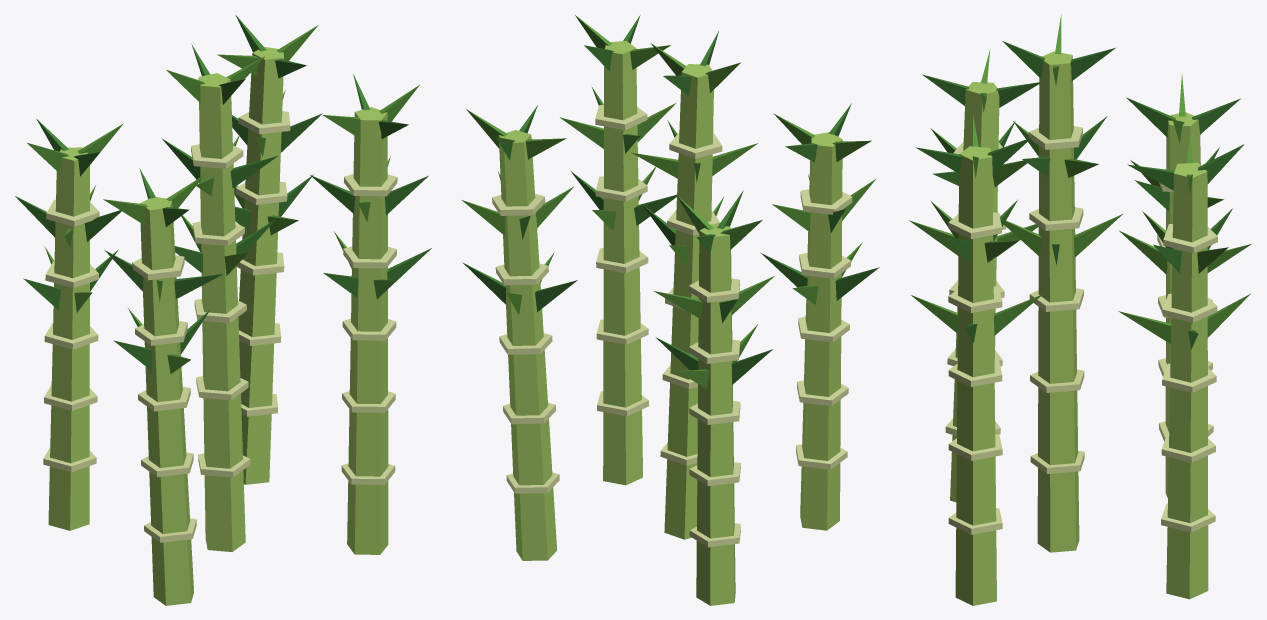
File: bamboo-4.glb
The picture shows the model from 3 angles, left to right: view 1: azimuth 30°, elevation 25°; view 2: azimuth 150°, elevation 25°; view 3: azimuth 270°, elevation 25°; orthographic projection. The views are drawn at different scales.
Visible parts, largest first — view 1: bamboo-4; view 2: bamboo-4; view 3: bamboo-4.
Boxes of the visible parts, x1=… form: bamboo-4: x1=15, y1=14, x2=431, y2=605; bamboo-4: x1=462, y1=15, x2=879, y2=605; bamboo-4: x1=909, y1=14, x2=1251, y2=605.
Bounding box in the file's own units: 0.6762 × 0.9939 × 0.6172.
Materials: 1 (1 with a texture image).
